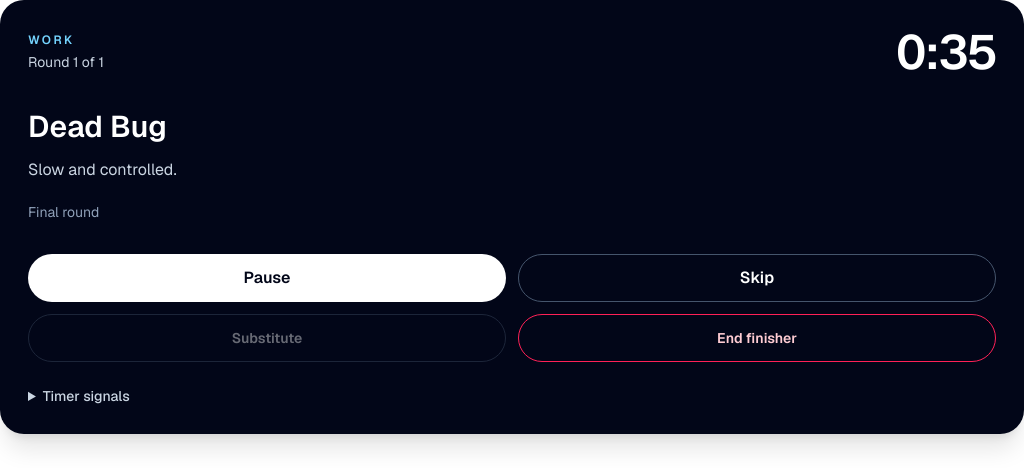
Test: FinisherExperience › does not regress terminal state when an older active load succeeds late
Click the button "Pause": (267, 278) [28, 254, 506, 302]
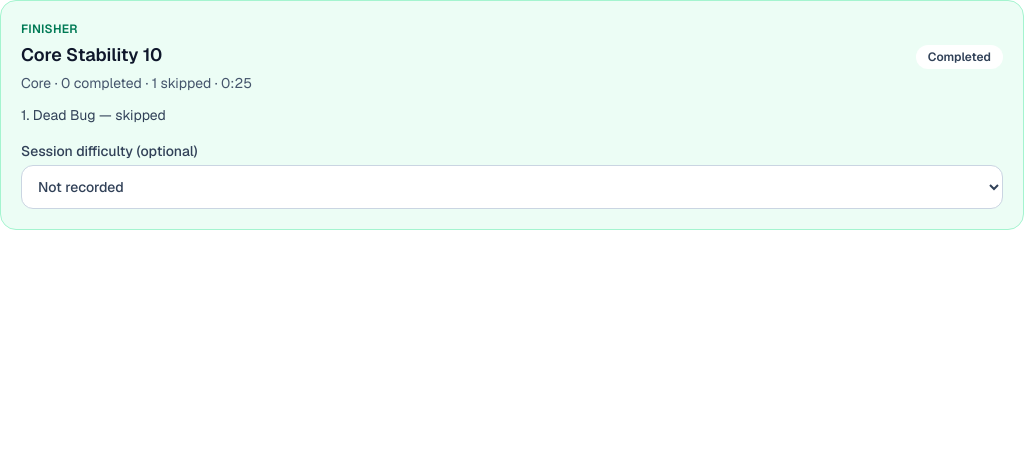
Now the text "Completed" is shown, box [916, 45, 1003, 69]
Now the element named "Finisher summary" is shown, box [0, 0, 1023, 230]
